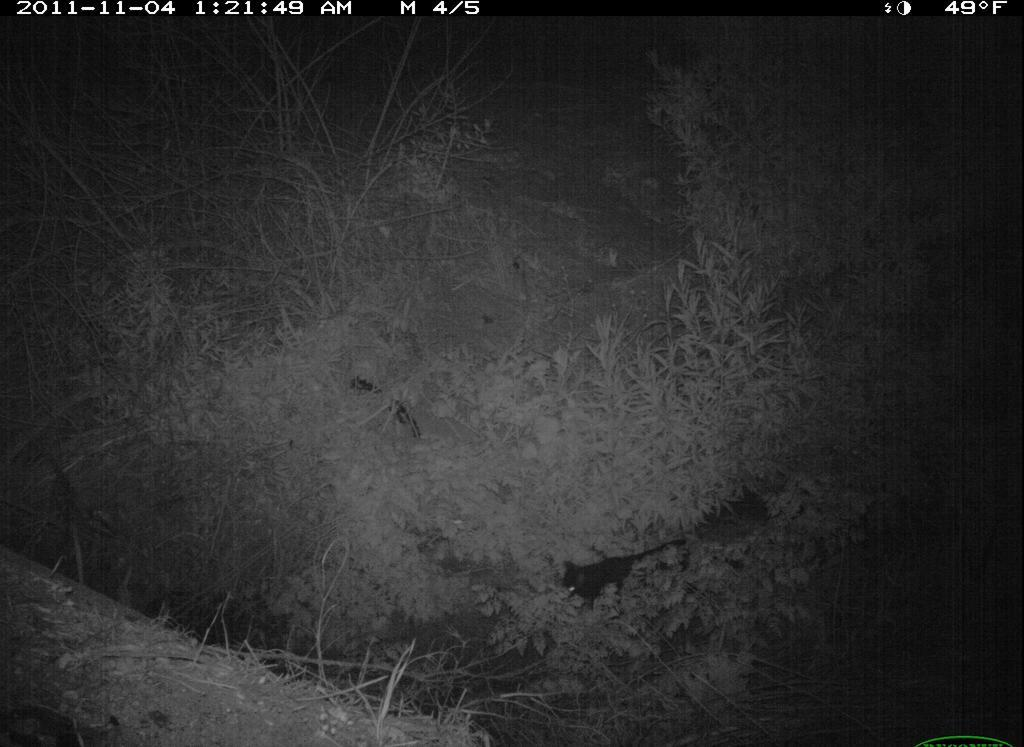cat: (551, 524, 710, 621)
